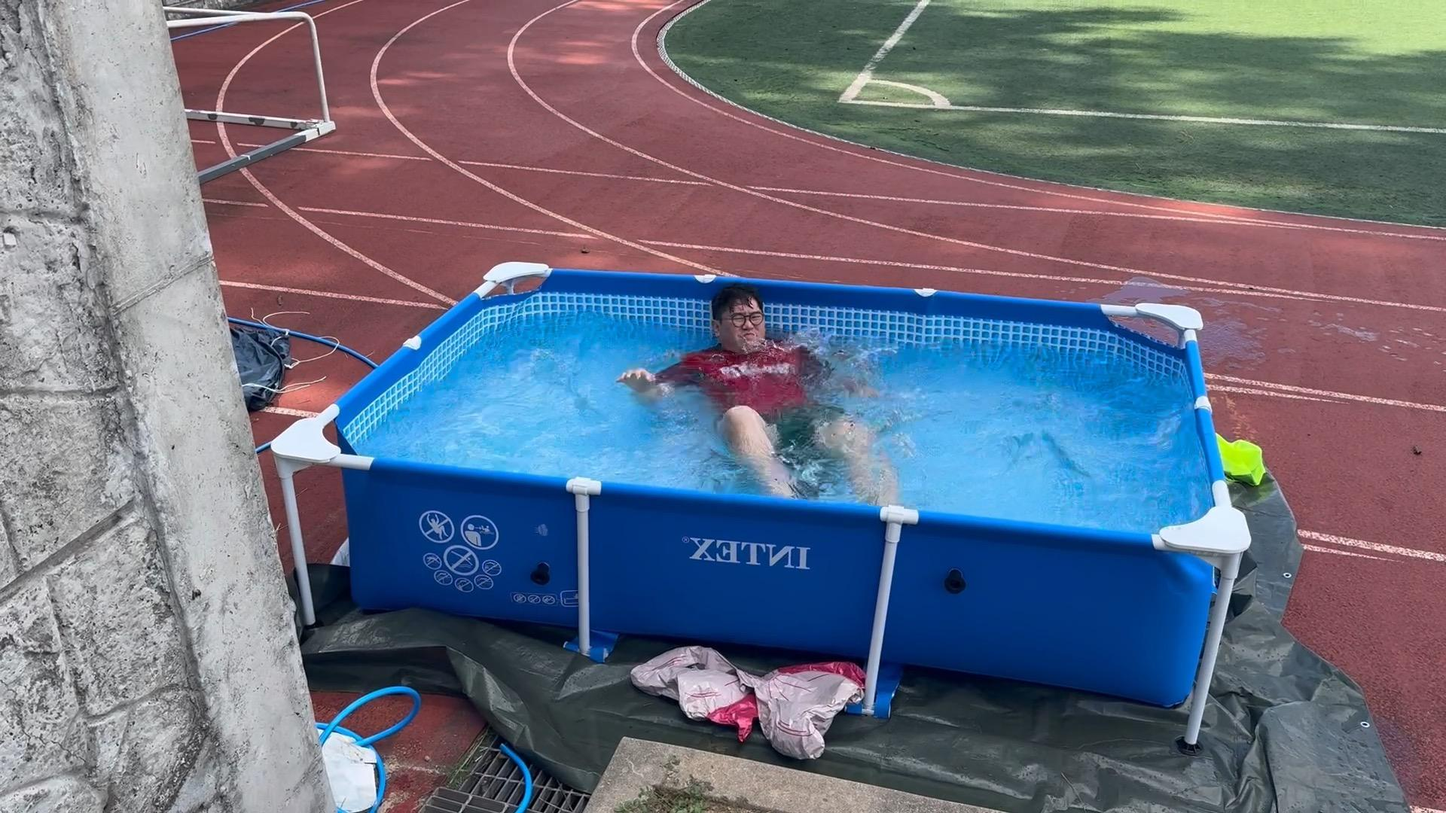Drowning: (615, 276, 923, 496)
